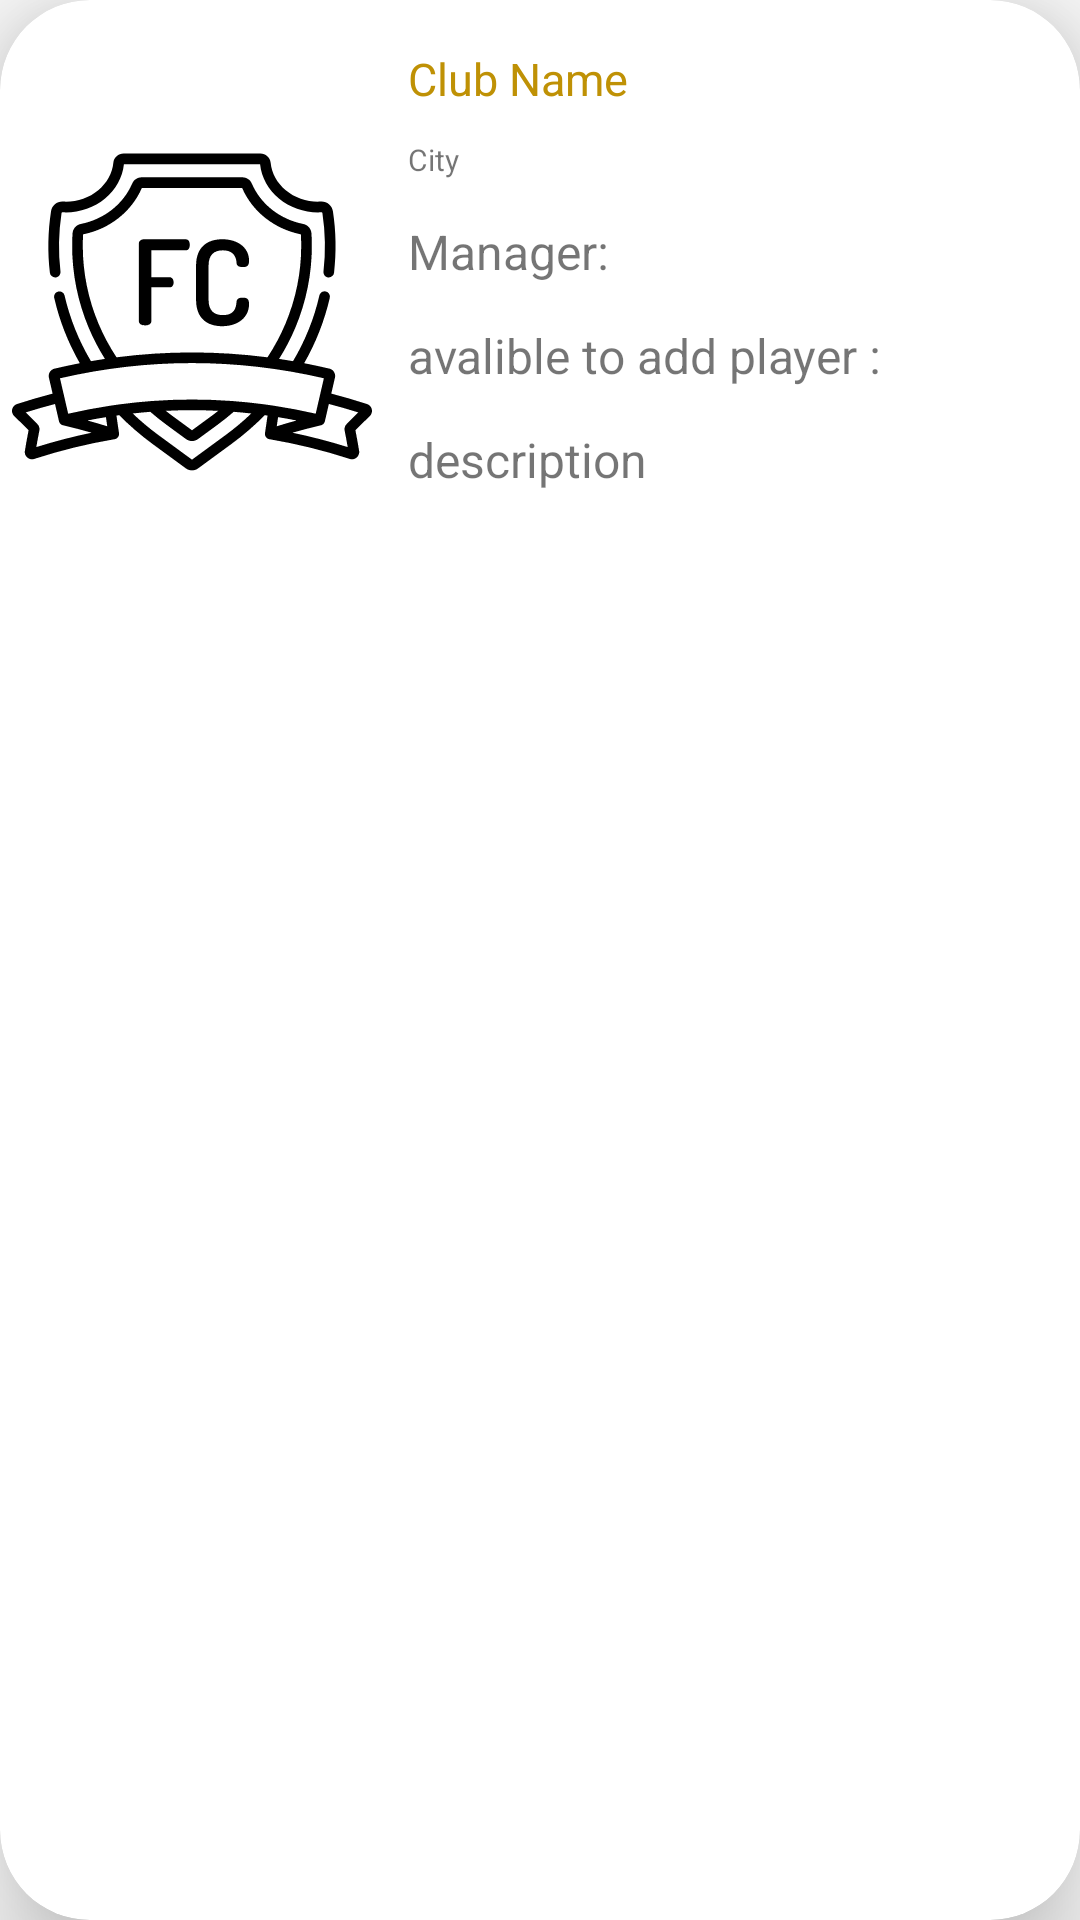

Icons on this 1080px×1920px Android screen, each with its box as bbox=[x1, y1, x2, y2]:
football club: bbox=[12, 153, 372, 471]
